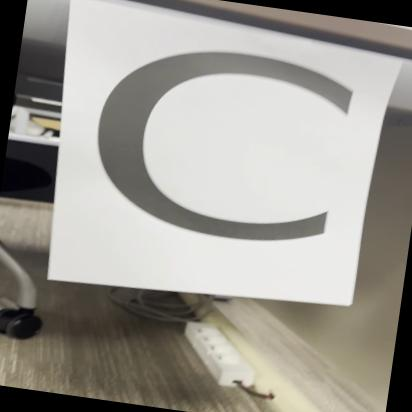seat: (41, 4, 385, 302)
